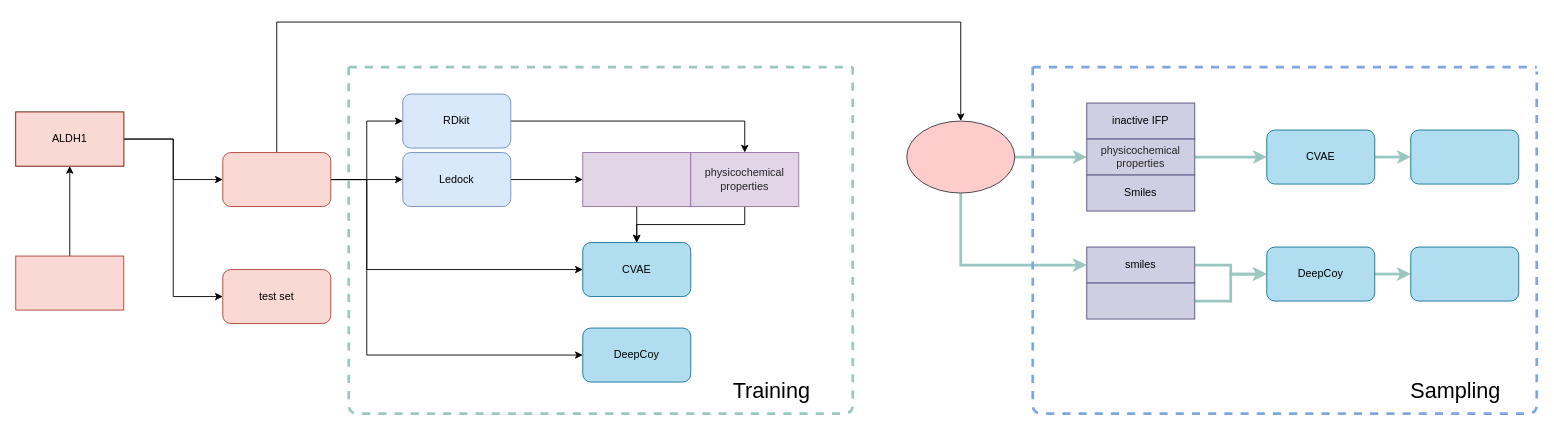
This 1554x431 diagram has some shape labels left out. The centre of each missing label's shape, as x and y in pixels:
Actives: the point at 960,156
Decoys with similar p hysicochemical properties to actives: the point at 1464,273
Decoys with similar structure to actives: the point at 1464,156
IFP: the point at 636,179
LIT-PCBA: the point at 69,282
random noise: the point at 1140,300
training set (smiles): the point at 276,179
